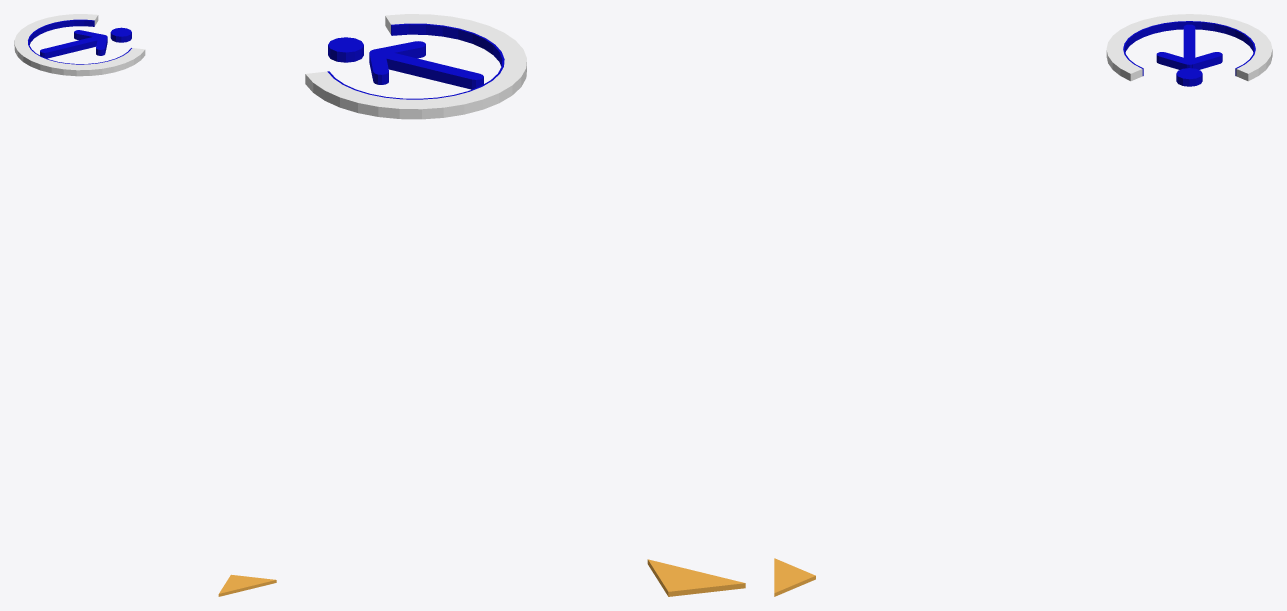
File: To_Conveyor_Process.dae
3 renders of one model, left to right at view 1: azimuth 30°, elevation 25°; view 2: azimuth 150°, elevation 25°; view 3: azimuth 270°, elevation 25°, orthographic. The views are drawn at different scales.
Parts seen in each view (by area): view 1: To_Conveyor_Process (×4); view 2: To_Conveyor_Process (×5); view 3: To_Conveyor_Process (×3).
Boxes of the visible parts, bbox=[...] form: To_Conveyor_Process (×4): bbox=[14, 14, 276, 596]; To_Conveyor_Process (×5): bbox=[305, 14, 745, 596]; To_Conveyor_Process (×3): bbox=[774, 14, 1272, 596].
Bounding box in the file's own units: 0.186 × 0.6 × 0.705.
